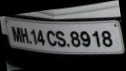character: (100, 29, 112, 47), (69, 30, 80, 47), (79, 30, 90, 47), (55, 30, 65, 48), (11, 26, 21, 42), (19, 27, 29, 43), (46, 30, 56, 46), (36, 29, 45, 45), (92, 30, 100, 47), (30, 29, 38, 45)
